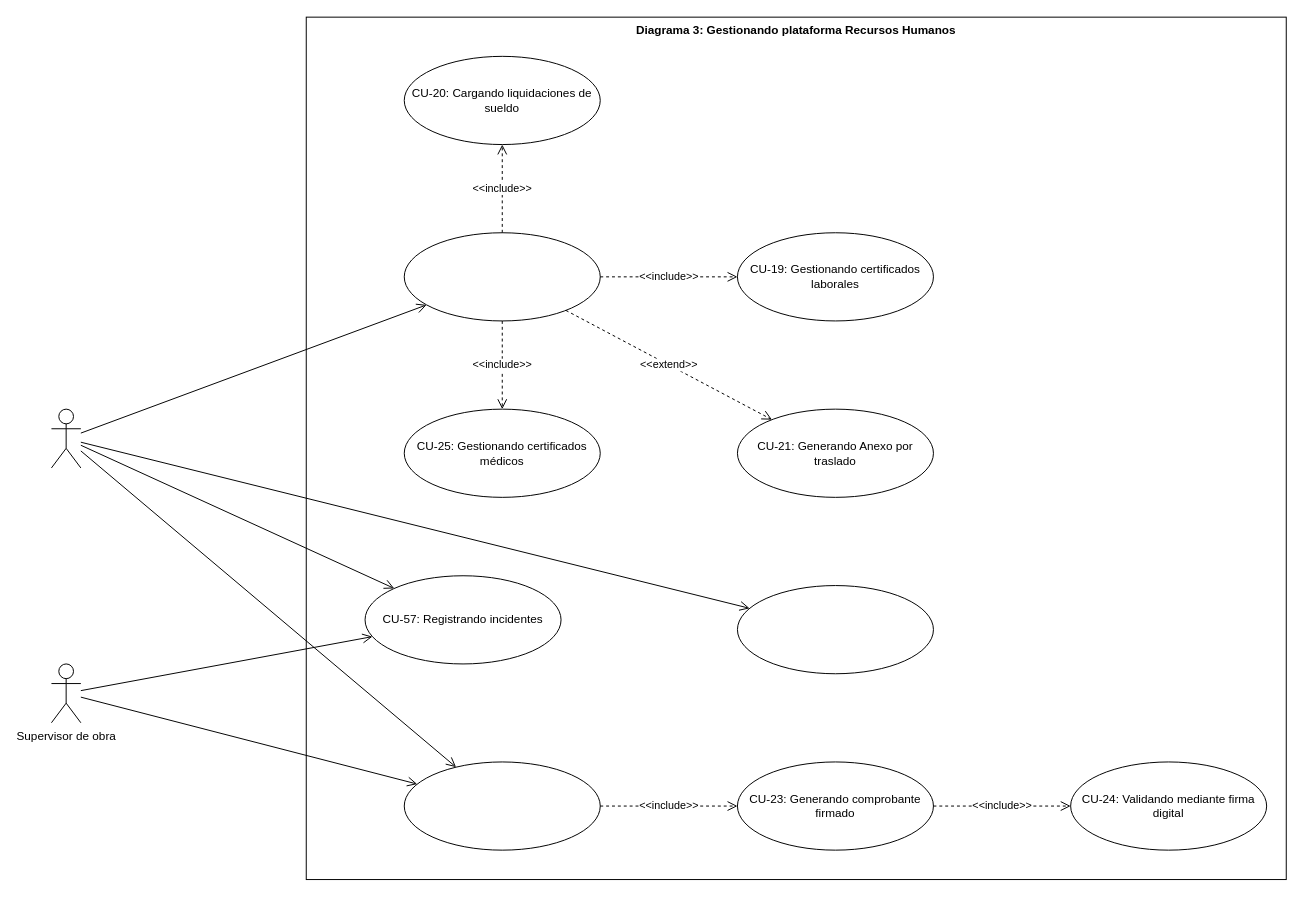
This 1303x897 diagram has some shape labels left out. The shapes that lost their labels are listed below. From the top down, each one's centre as x and y in pixels, then its label:
At (501,276): "CU-18: Gestionando expedientes".
At (65,438): "Administrador total".
At (834,629): "CU-55: Gestionando Polizas".
At (501,805): "CU-22: Registrando entrega EPP".
